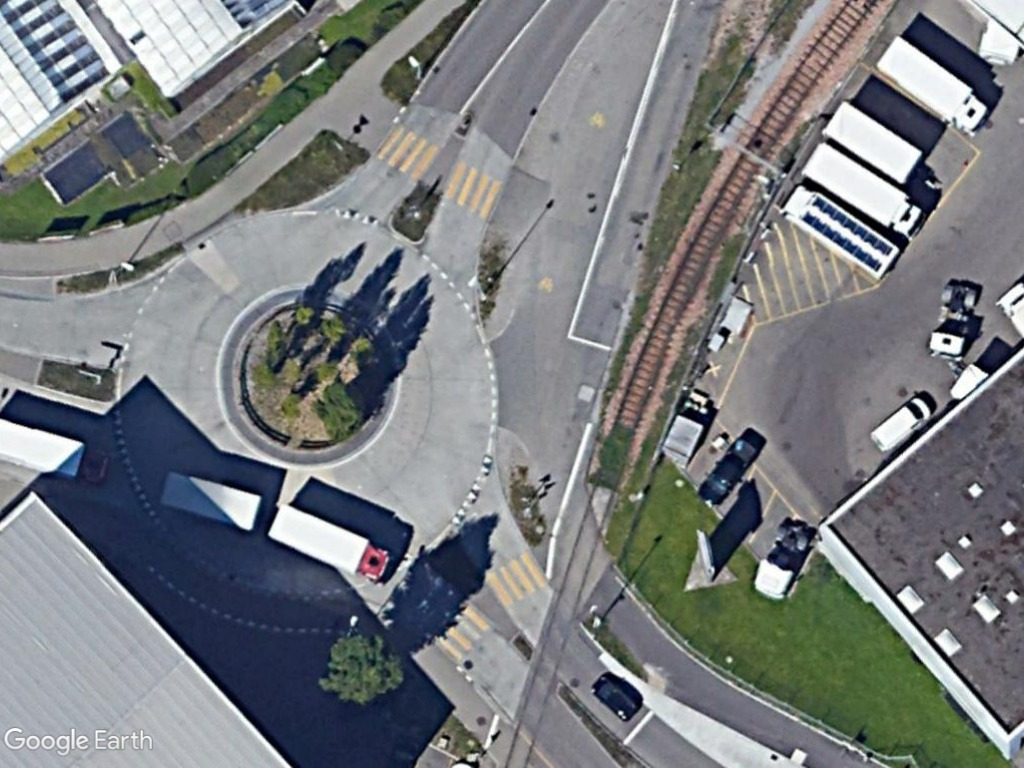truck: (796, 140, 926, 241), (872, 29, 991, 135), (263, 496, 393, 585)
van: (867, 392, 933, 456)
